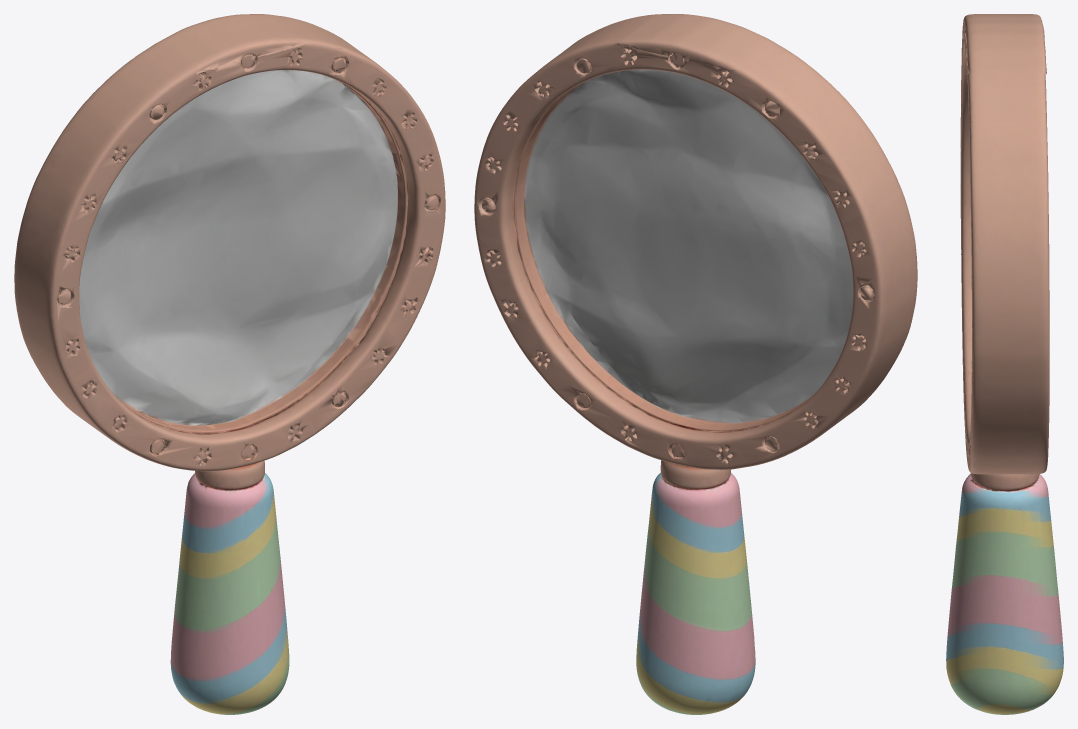
File: glass.glb
3 views of the same model, side by side, from view 1: azimuth 30°, elevation 25°; view 2: azimuth 150°, elevation 25°; view 3: azimuth 270°, elevation 25° (orthographic).
Parts seen in each view (by area): view 1: tripo_node_446fdea5-4ce5-47f8-9e9c-8a29cd916776; view 2: tripo_node_446fdea5-4ce5-47f8-9e9c-8a29cd916776; view 3: tripo_node_446fdea5-4ce5-47f8-9e9c-8a29cd916776.
Part boxes in pixels (left/top/right/bottom): tripo_node_446fdea5-4ce5-47f8-9e9c-8a29cd916776: left=14, top=14, right=445, bottom=714; tripo_node_446fdea5-4ce5-47f8-9e9c-8a29cd916776: left=474, top=14, right=917, bottom=714; tripo_node_446fdea5-4ce5-47f8-9e9c-8a29cd916776: left=946, top=14, right=1063, bottom=714.
Bounding box in the file's own units: 0.6131 × 0.9794 × 0.1559.
1 material, 1 textured.
